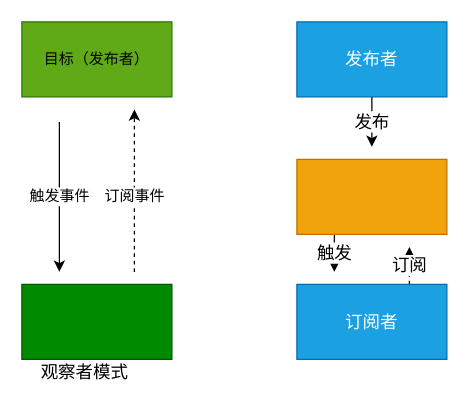
Some shapes in this 469 by 406 pixel diagram are drawn without their labels. The shapes that lost their labels are listed below. From the top down, each one's centre as x and y in pixels, then its label:
At [371,196]: "事件中心".
At [96,321]: "观察者（订阅者）".
